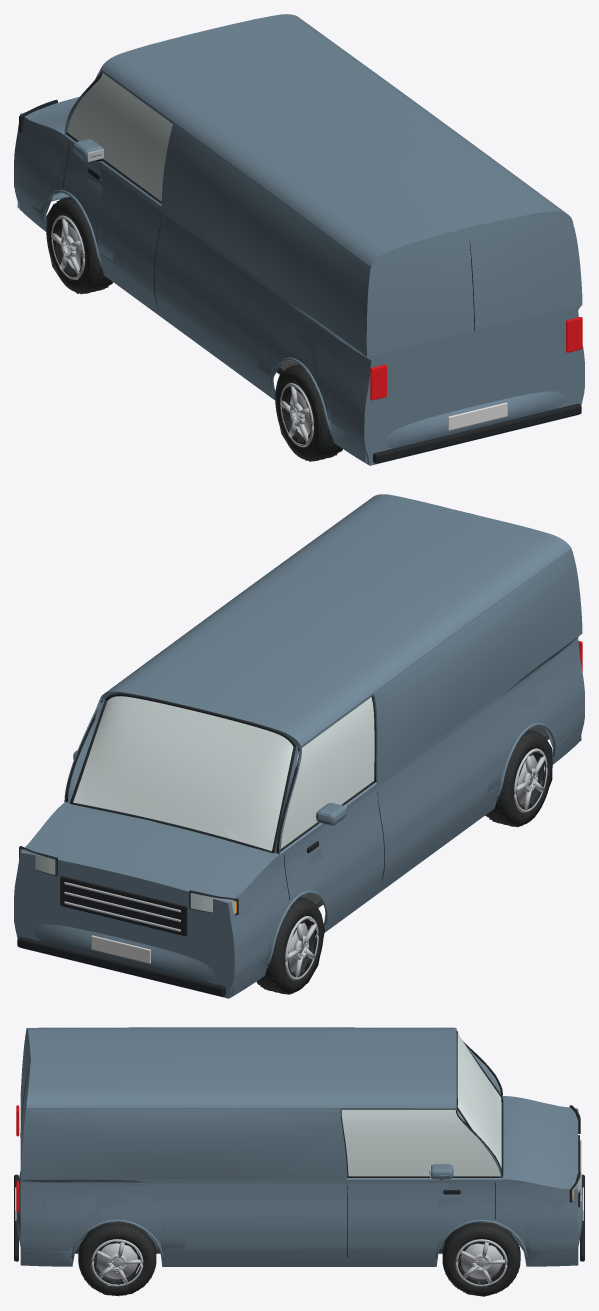
Rendered from VehicleVan.fbx.
3 renders of one model, top to bottom at view 1: azimuth 30°, elevation 25°; view 2: azimuth 150°, elevation 25°; view 3: azimuth 270°, elevation 25°, orthographic. The views are drawn at different scales.
Visible parts, largest first — view 1: VehicleVan_Body_LOD0_Export, VehicleVan_Body_LOD2_Export, VehicleVan_Body_LOD1_Export, VehicleVan_Glass_LOD0_Export, VehicleVan_Wheel_1_LOD0_Export, VehicleVan_Wheel_0_LOD0_Export, VehicleVan_Wheel_0_LOD1_Export, VehicleVan_Wheel_1_LOD1_Export, VehicleVan_Glass_LOD1_Export, VehicleVan_Wheel_0_LOD2_Export, VehicleVan_Wheel_1_LOD2_Export; view 2: VehicleVan_Body_LOD0_Export, VehicleVan_Body_LOD2_Export, VehicleVan_Glass_LOD0_Export, VehicleVan_Body_LOD1_Export, VehicleVan_Glass_LOD1_Export, VehicleVan_Wheel_1_LOD0_Export, VehicleVan_Wheel_0_LOD0_Export, VehicleVan_Wheel_1_LOD1_Export, VehicleVan_Wheel_0_LOD1_Export, VehicleVan_Glass_LOD2_Export, VehicleVan_Wheel_0_LOD2_Export, VehicleVan_Wheel_1_LOD2_Export; view 3: VehicleVan_Body_LOD0_Export, VehicleVan_Body_LOD2_Export, VehicleVan_Body_LOD1_Export, VehicleVan_Glass_LOD0_Export, VehicleVan_Wheel_3_LOD0_Export, VehicleVan_Wheel_2_LOD0_Export, VehicleVan_Wheel_2_LOD1_Export, VehicleVan_Glass_LOD1_Export, VehicleVan_Wheel_3_LOD1_Export, VehicleVan_Wheel_3_LOD2_Export, VehicleVan_Wheel_2_LOD2_Export.
Part boxes in pixels (x1,y1,x2,y2): VehicleVan_Body_LOD0_Export: [14, 14, 584, 465]; VehicleVan_Body_LOD2_Export: [14, 14, 584, 465]; VehicleVan_Body_LOD1_Export: [14, 14, 584, 464]; VehicleVan_Glass_LOD0_Export: [67, 73, 172, 201]; VehicleVan_Wheel_1_LOD0_Export: [46, 197, 112, 294]; VehicleVan_Wheel_0_LOD0_Export: [275, 364, 341, 461]; VehicleVan_Wheel_0_LOD1_Export: [275, 367, 341, 460]; VehicleVan_Wheel_1_LOD1_Export: [46, 199, 111, 293]; VehicleVan_Glass_LOD1_Export: [70, 77, 171, 187]; VehicleVan_Wheel_0_LOD2_Export: [277, 367, 342, 458]; VehicleVan_Wheel_1_LOD2_Export: [46, 200, 112, 293]; VehicleVan_Body_LOD0_Export: [14, 494, 584, 998]; VehicleVan_Body_LOD2_Export: [14, 499, 584, 998]; VehicleVan_Glass_LOD0_Export: [20, 696, 374, 914]; VehicleVan_Body_LOD1_Export: [14, 494, 583, 997]; VehicleVan_Glass_LOD1_Export: [23, 696, 374, 911]; VehicleVan_Wheel_1_LOD0_Export: [257, 897, 323, 994]; VehicleVan_Wheel_0_LOD0_Export: [486, 729, 552, 827]; VehicleVan_Wheel_1_LOD1_Export: [257, 900, 323, 994]; VehicleVan_Wheel_0_LOD1_Export: [487, 732, 552, 825]; VehicleVan_Glass_LOD2_Export: [28, 704, 298, 910]; VehicleVan_Wheel_0_LOD2_Export: [485, 733, 552, 826]; VehicleVan_Wheel_1_LOD2_Export: [256, 903, 324, 994]; VehicleVan_Body_LOD0_Export: [14, 1027, 584, 1266]; VehicleVan_Body_LOD2_Export: [15, 1027, 583, 1266]; VehicleVan_Body_LOD1_Export: [16, 1027, 582, 1266]; VehicleVan_Glass_LOD0_Export: [341, 1034, 580, 1200]; VehicleVan_Wheel_3_LOD0_Export: [442, 1222, 520, 1295]; VehicleVan_Wheel_2_LOD0_Export: [78, 1222, 156, 1296]; VehicleVan_Wheel_2_LOD1_Export: [78, 1225, 155, 1295]; VehicleVan_Glass_LOD1_Export: [341, 1037, 578, 1188]; VehicleVan_Wheel_3_LOD1_Export: [443, 1225, 520, 1294]; VehicleVan_Wheel_3_LOD2_Export: [443, 1227, 519, 1296]; VehicleVan_Wheel_2_LOD2_Export: [79, 1229, 155, 1295].
Size of the model in its own units: 2.12 by 1.89 by 5.02.
